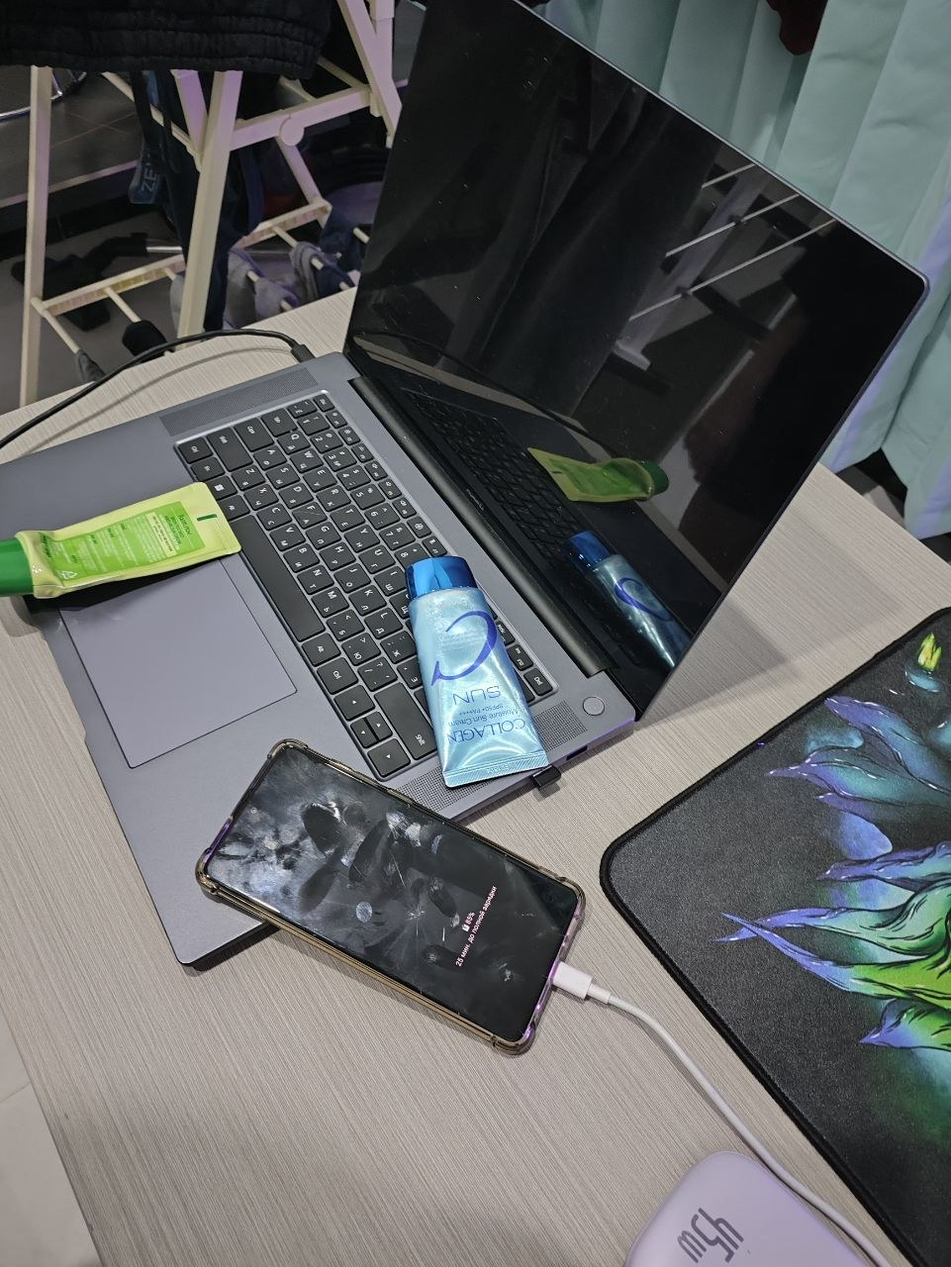cell phone: (195, 738, 586, 1057)
laptop: (2, 2, 930, 970)
